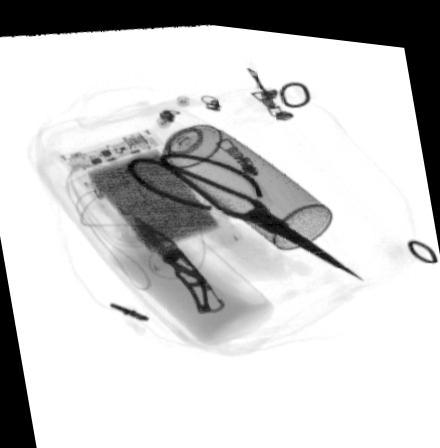Knife: (131, 207, 227, 309)
Powerbank: (56, 122, 242, 265)
Scissors: (126, 144, 371, 278)
Sprayer: (131, 96, 330, 242)
